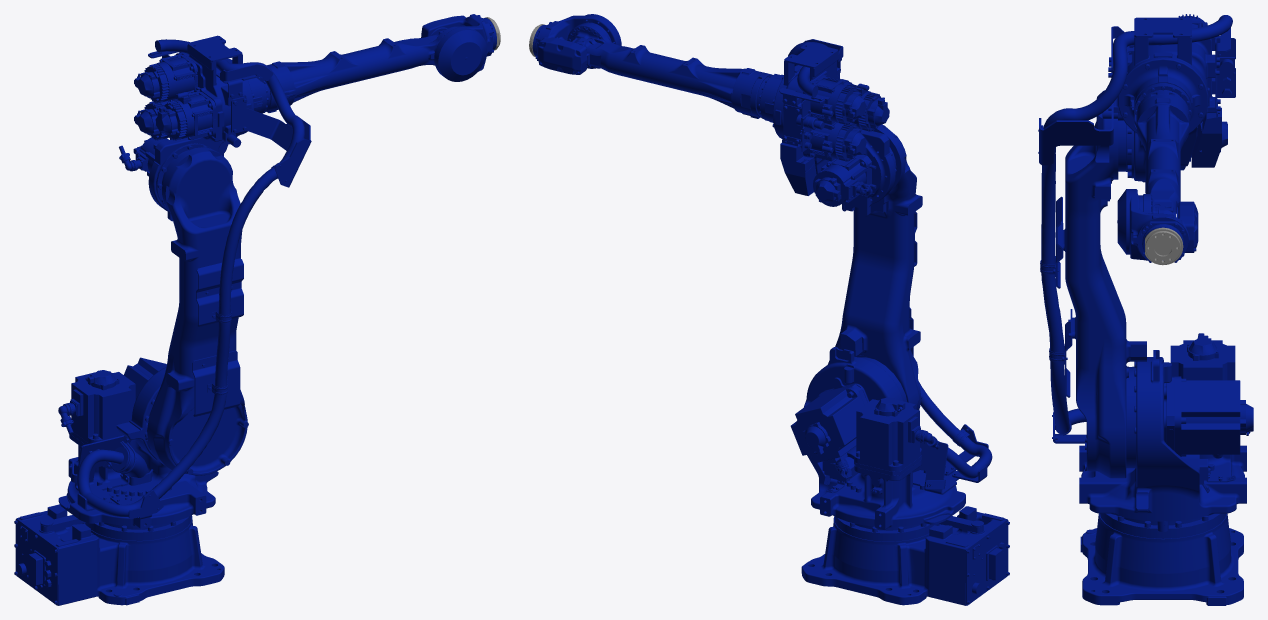
3 views of the same model, side by side, from view 1: azimuth 30°, elevation 25°; view 2: azimuth 150°, elevation 25°; view 3: azimuth 270°, elevation 25° (orthographic). The views are drawn at different scales.
Visible parts, largest first — view 1: shoulder_link, upper_arm, base_axis, base_startic, wrist1, wrist2; view 2: base_axis, upper_arm, base_startic, shoulder_link, wrist1, wrist2; view 3: base_axis, shoulder_link, upper_arm, base_startic, wrist1, wrist2, flange.
Part boxes in pixels (box(x1,y1,x2,y2)): shoulder_link: box(147, 147, 248, 475); upper_arm: box(119, 35, 311, 221); base_axis: box(58, 357, 218, 529); base_startic: box(14, 504, 224, 605); wrist1: box(265, 26, 459, 112); wrist2: box(421, 14, 496, 81); base_axis: box(790, 347, 992, 530); upper_arm: box(756, 39, 896, 216); base_startic: box(801, 506, 1009, 605); shoulder_link: box(828, 124, 922, 410); wrist1: box(567, 22, 772, 118); wrist2: box(532, 14, 621, 74); base_axis: box(1052, 333, 1253, 531); shoulder_link: box(1040, 90, 1146, 478); upper_arm: box(1038, 14, 1235, 192); base_startic: box(1080, 513, 1243, 605); wrist1: box(1134, 91, 1189, 216); wrist2: box(1117, 189, 1198, 262); flange: box(1145, 227, 1183, 265).
Bounding box in the file's own units: 1.76 × 1.81 × 0.6007.
